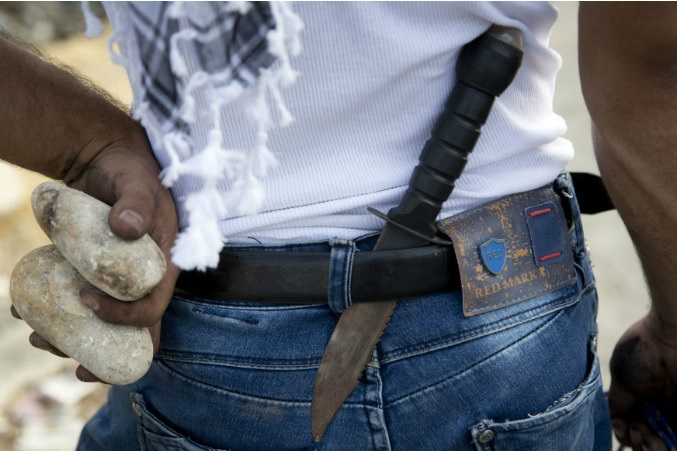knife: (274, 154, 470, 451)
